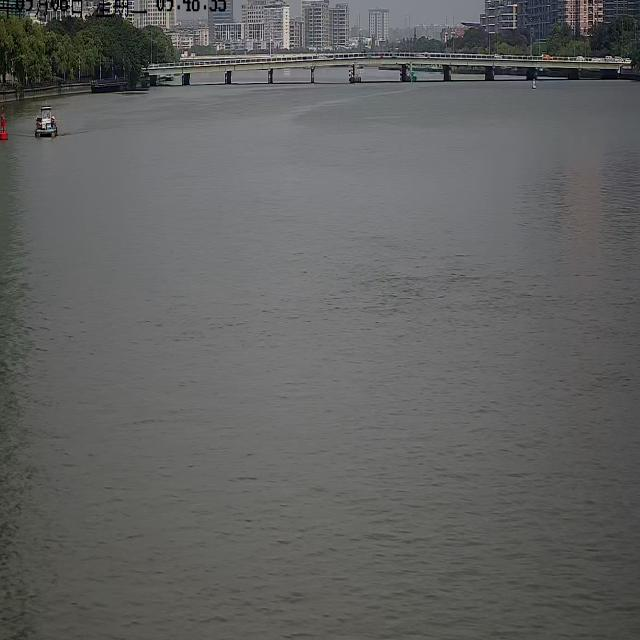ship: (35, 105, 57, 136)
